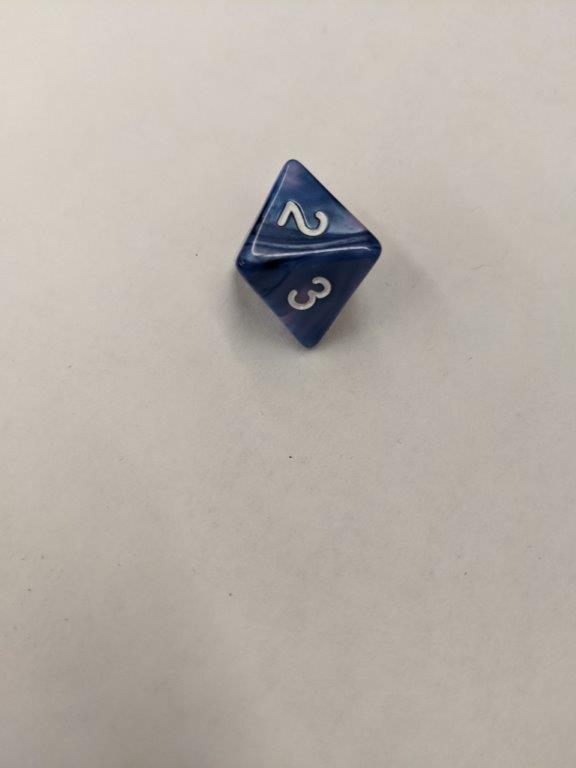d8-2: (235, 158, 384, 351)
